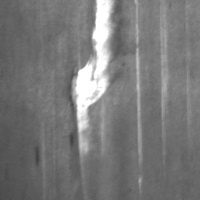scratches: (70, 1, 119, 160), (156, 1, 173, 164), (132, 1, 145, 165)
